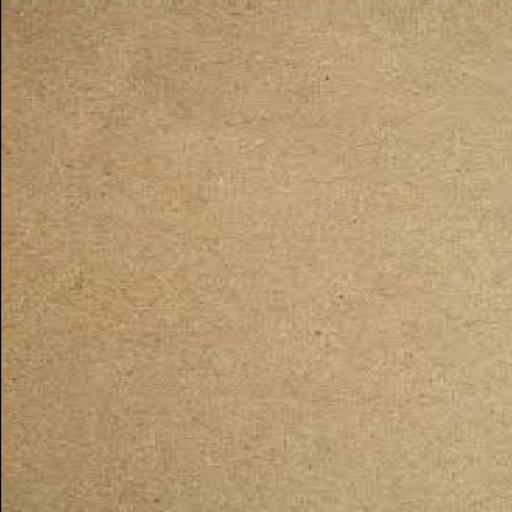cardboard: (1, 1, 511, 512)
